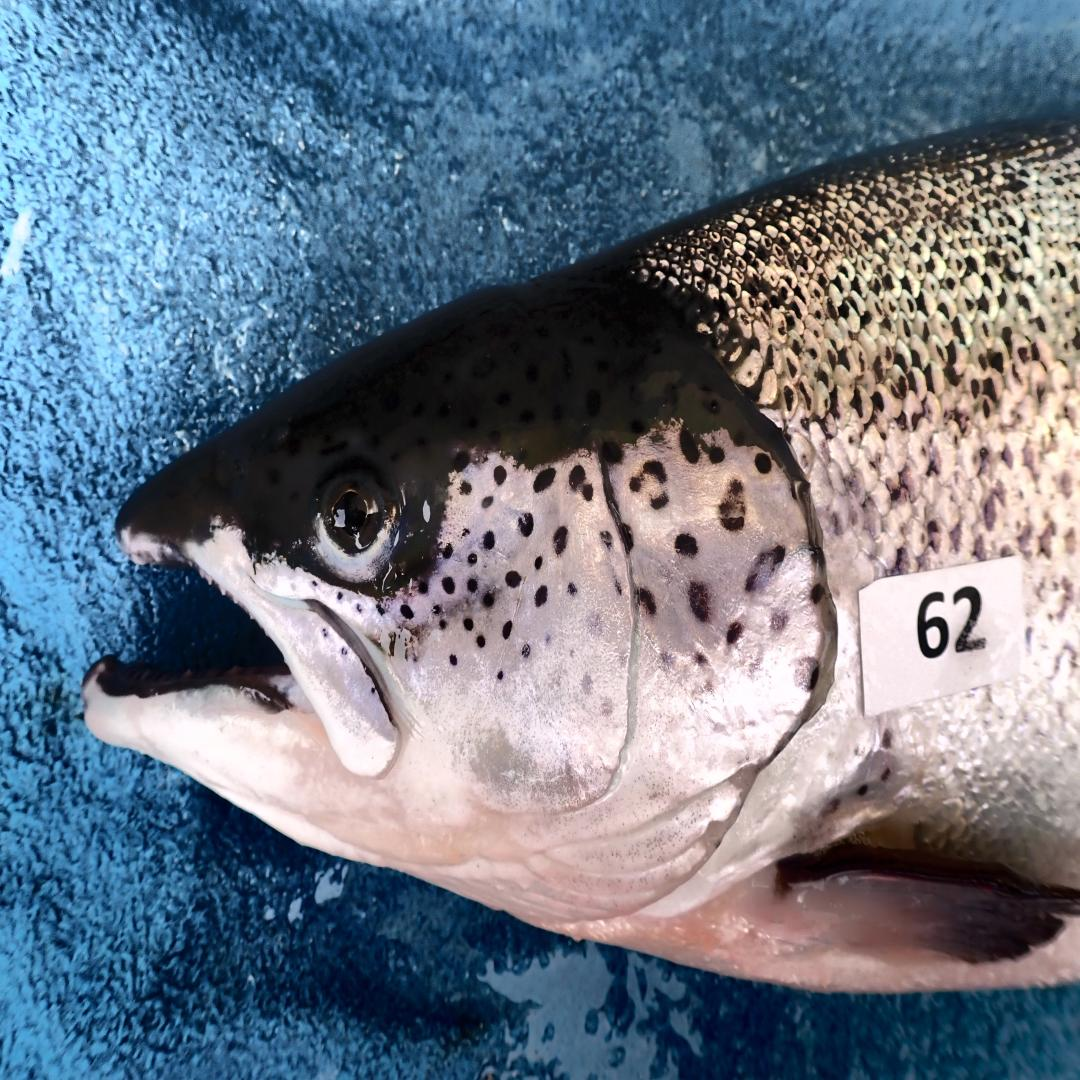spot: (745, 545, 785, 592), (718, 478, 746, 531), (687, 579, 710, 622), (794, 657, 819, 692), (680, 427, 700, 463), (533, 468, 556, 492), (643, 460, 666, 483), (674, 534, 698, 556), (638, 588, 656, 615), (600, 441, 622, 463), (553, 526, 568, 555), (754, 451, 772, 474), (726, 621, 743, 644), (453, 450, 470, 472), (771, 610, 788, 632), (569, 465, 585, 488), (575, 481, 593, 501), (518, 513, 533, 537), (708, 445, 725, 464), (650, 493, 669, 509), (505, 571, 522, 588), (534, 585, 547, 607), (493, 465, 507, 485), (623, 525, 633, 552), (811, 584, 824, 604), (629, 474, 643, 492), (482, 589, 495, 607), (442, 576, 455, 594), (600, 531, 612, 549), (400, 604, 414, 619), (483, 530, 494, 549), (459, 481, 472, 495), (502, 621, 512, 639), (467, 577, 478, 593), (442, 543, 453, 559), (417, 578, 428, 594), (694, 652, 707, 664), (649, 433, 664, 443), (482, 495, 493, 508), (463, 617, 473, 631), (521, 644, 530, 658), (614, 579, 622, 594), (432, 604, 442, 615), (567, 582, 576, 594), (476, 635, 485, 647), (449, 653, 457, 666), (468, 553, 477, 564), (535, 557, 542, 570), (462, 529, 470, 538), (440, 619, 447, 629), (545, 633, 551, 644), (497, 670, 503, 680), (602, 533, 608, 535)
